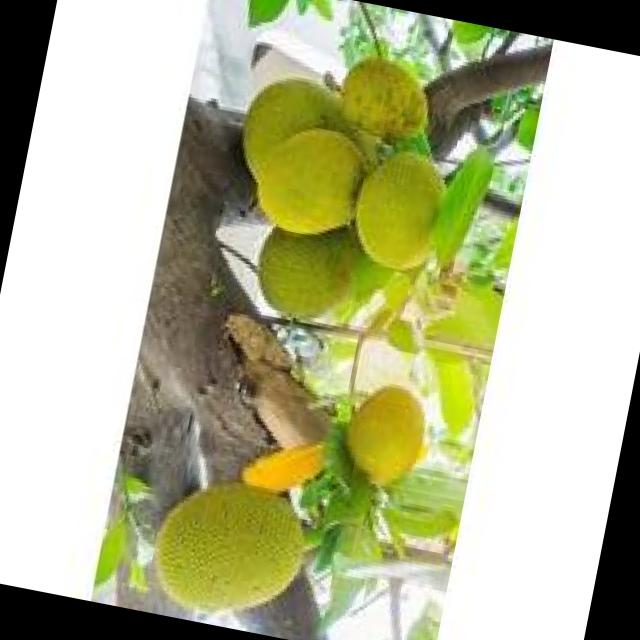Fruit: (202, 36, 461, 290), (124, 454, 340, 640), (333, 136, 469, 291)
